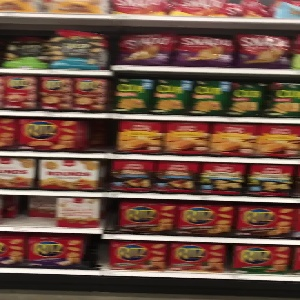void: (1, 197, 54, 227), (79, 119, 114, 154)
